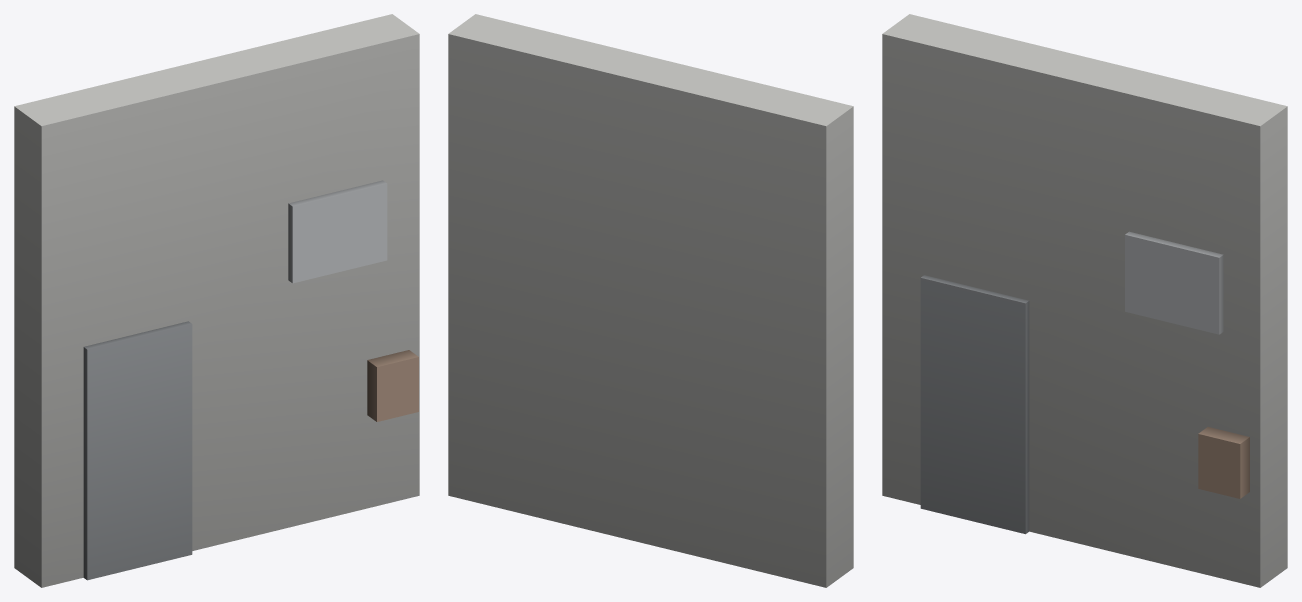
The model's file is ground_service.lod1.glb.
3 views of the same model, side by side, from view 1: azimuth 30°, elevation 25°; view 2: azimuth 150°, elevation 25°; view 3: azimuth 330°, elevation 25° (orthographic).
Parts seen in each view (by area): view 1: facade_ground_service.lod1; view 2: facade_ground_service.lod1; view 3: facade_ground_service.lod1.
Boxes of the visible parts, x1,y1,x2,y2 form: facade_ground_service.lod1: [14, 14, 419, 587]; facade_ground_service.lod1: [448, 14, 853, 587]; facade_ground_service.lod1: [882, 14, 1287, 587].
Bounding box in the file's own units: 3.6 × 4.2 × 0.61.
